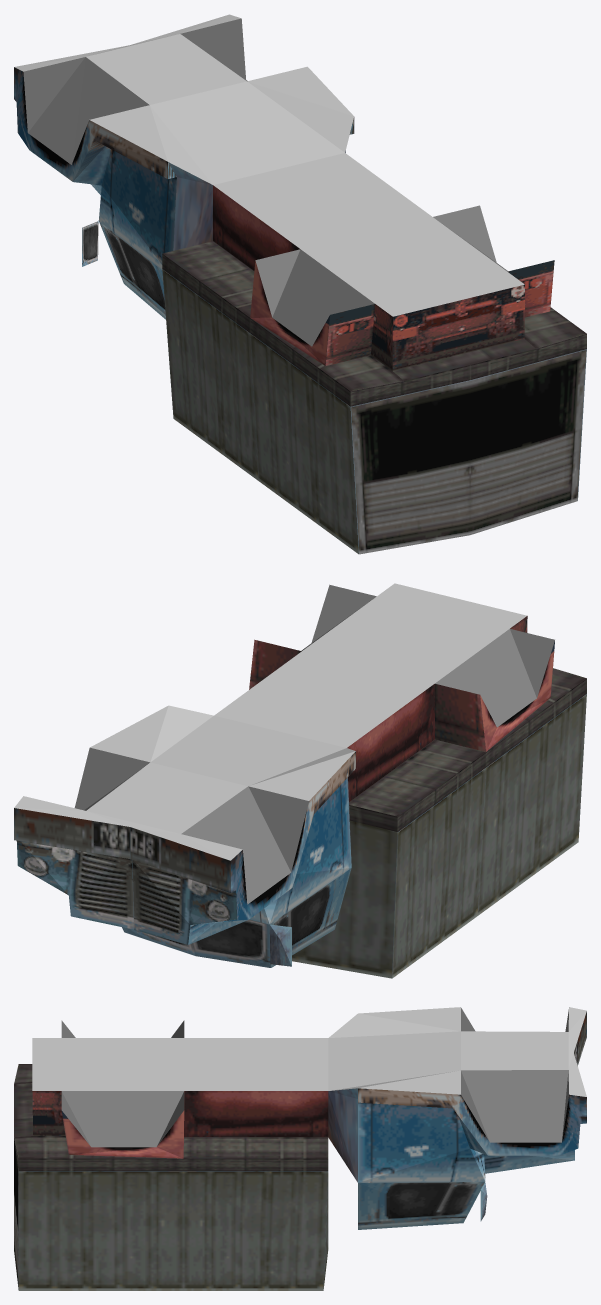
File: HAVANA_model9_damaged.obj
3 renders of one model, top to bottom at view 1: azimuth 30°, elevation 25°; view 2: azimuth 150°, elevation 25°; view 3: azimuth 270°, elevation 25°, orthographic. The views are drawn at different scales.
Visible parts, largest first — view 1: HAVANA_model9_damaged; view 2: HAVANA_model9_damaged; view 3: HAVANA_model9_damaged.
Boxes of the visible parts, <box> form: HAVANA_model9_damaged: <box>14,14,586,554</box>; HAVANA_model9_damaged: <box>14,583,586,978</box>; HAVANA_model9_damaged: <box>14,1007,586,1290</box>.
Bounding box in the file's own units: 340 × 334 × 868.
